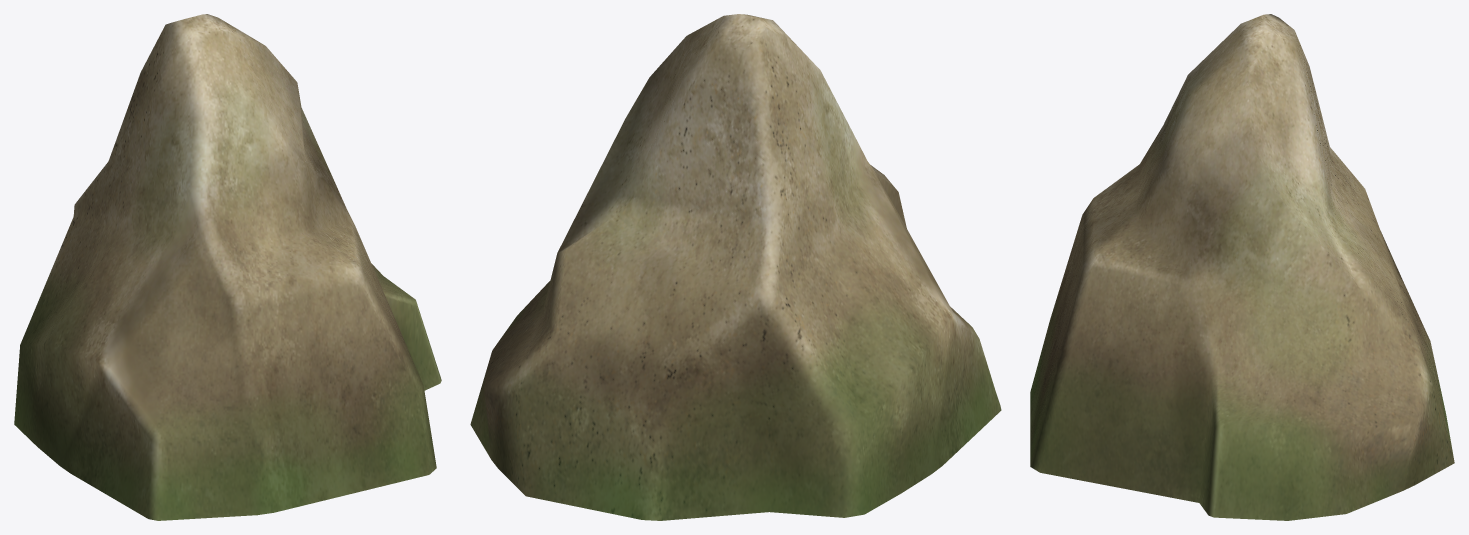
Rendered from rock_01.fbx.
The picture shows the model from 3 angles, left to right: view 1: azimuth 30°, elevation 25°; view 2: azimuth 150°, elevation 25°; view 3: azimuth 270°, elevation 25°; orthographic projection. The views are drawn at different scales.
Visible parts, largest first — view 1: rock_01; view 2: rock_01; view 3: rock_01.
Part boxes in pixels (box(x1,y1,x2,y2)): rock_01: box(14, 14, 441, 520); rock_01: box(470, 14, 1001, 520); rock_01: box(1030, 14, 1454, 520).
Bounding box in the file's own units: 4.97 × 4.98 × 4.89.
